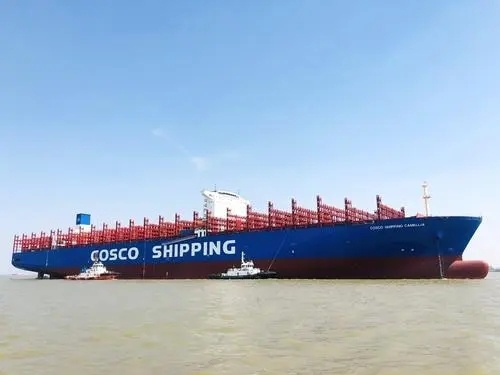Cargoship: (14, 178, 494, 282)
otherboat: (56, 250, 120, 280), (210, 255, 274, 282)
